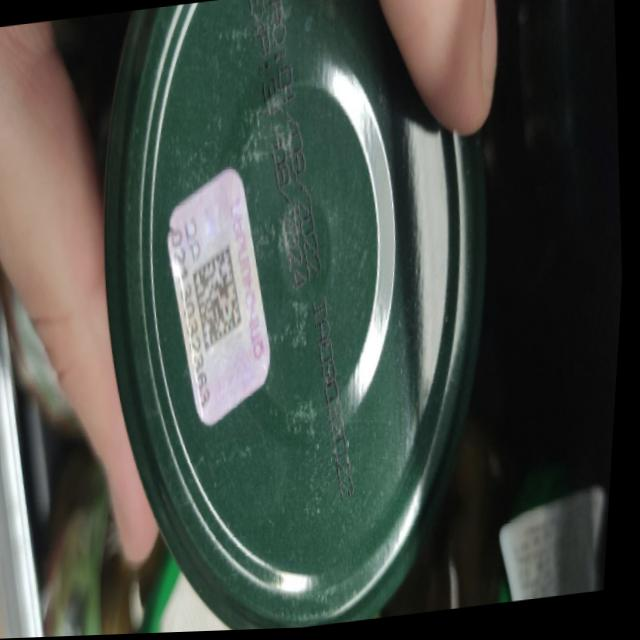datamatrix: (188, 241, 254, 361)
